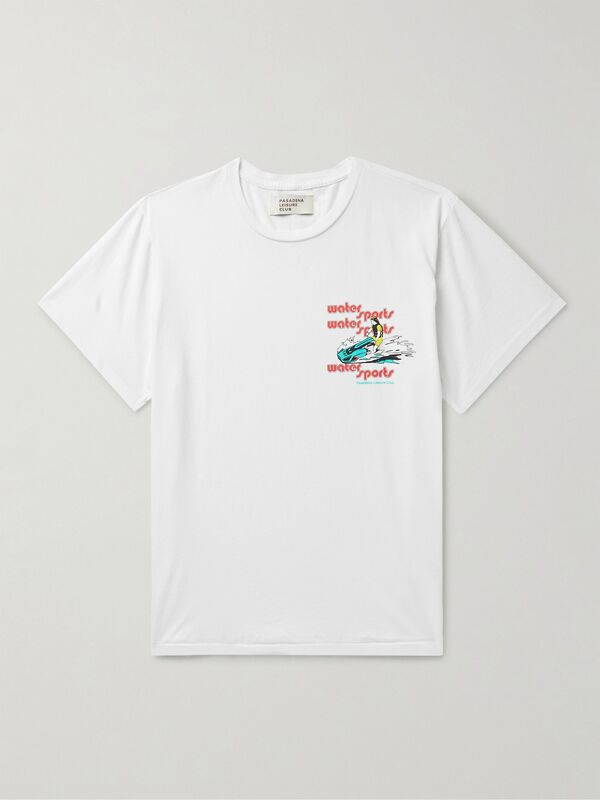tshirt: (32, 149, 569, 665)
